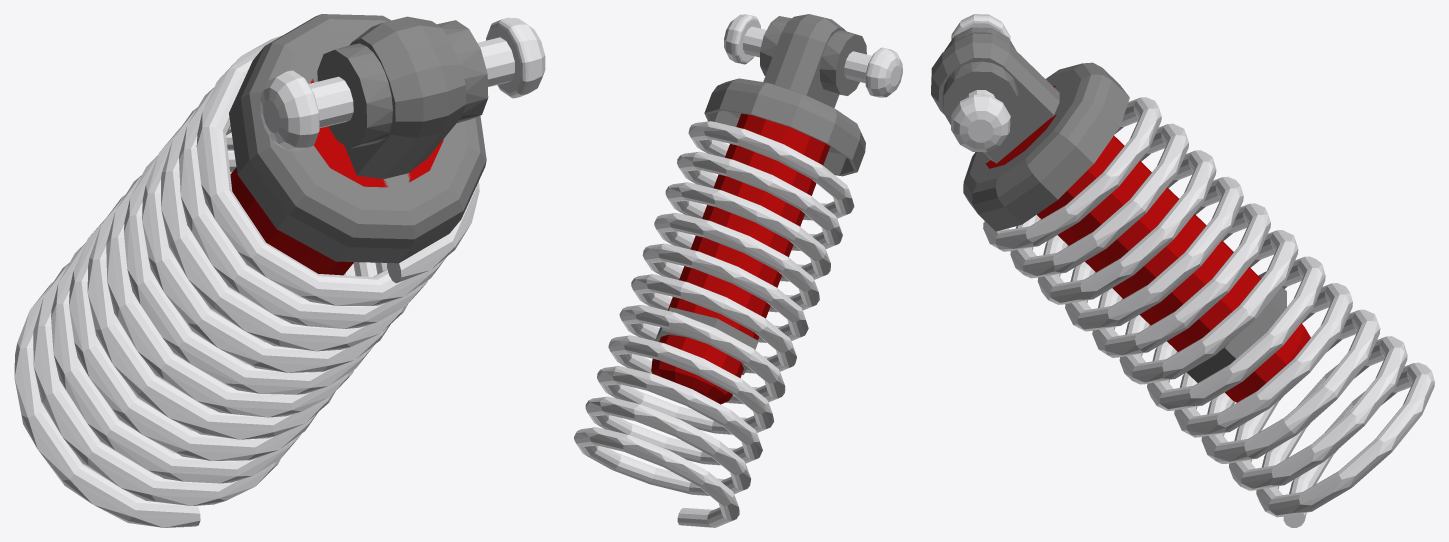
The model's file is shock_lf_1_vis.dae.
3 renders of one model, left to right at view 1: azimuth 30°, elevation 25°; view 2: azimuth 150°, elevation 25°; view 3: azimuth 270°, elevation 25°, orthographic. The views are drawn at different scales.
Visible parts, largest first — view 1: shock_lf_1_vis; view 2: shock_lf_1_vis; view 3: shock_lf_1_vis.
Part boxes in pixels (x1,y1,x2,y2): shock_lf_1_vis: (14, 14, 545, 527); shock_lf_1_vis: (574, 14, 902, 527); shock_lf_1_vis: (931, 14, 1434, 527).
Size of the model in its own units: 0.052 by 0.1155 by 0.1239.
